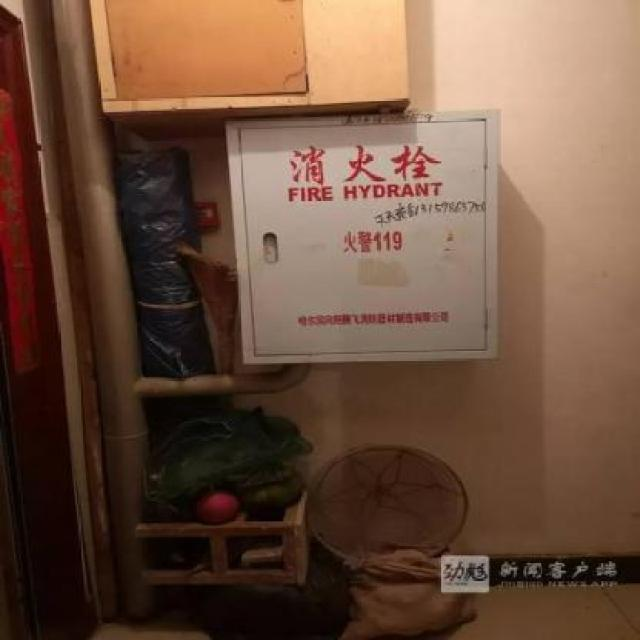firehydrant: (220, 102, 506, 370)
